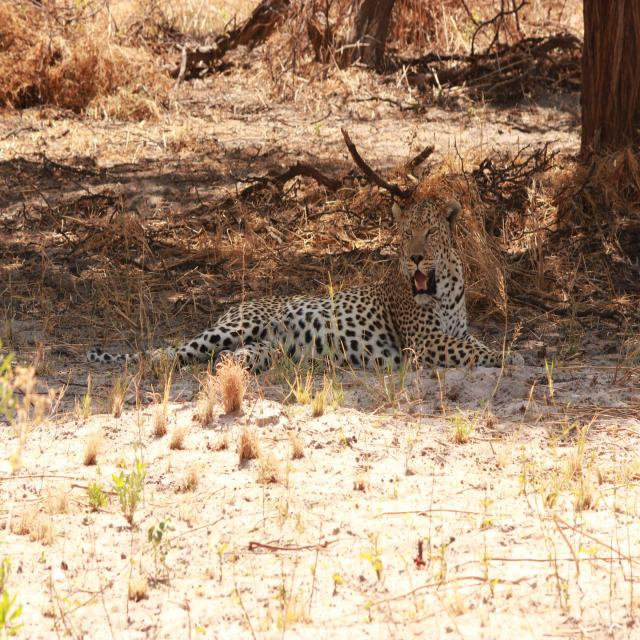Leopard: (123, 215, 542, 398)
